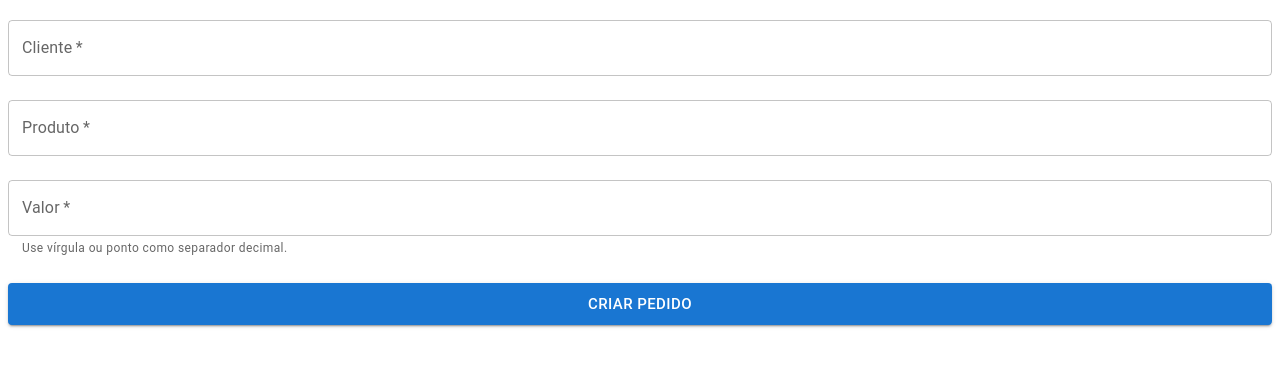
Test: OrderForm › maps API validation errors to their respective fields
Type "Ana Silva" into the field labelled "Cliente *" at [640, 48], box 8,20 -> 1272,76
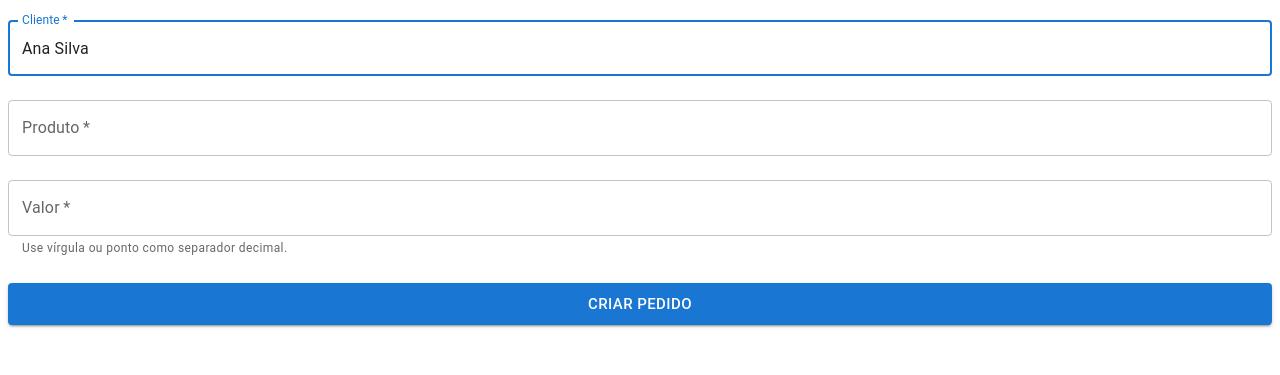
Type "Notebook" into the field labelled "Produto *" at [640, 128], box 8,100 -> 1272,156
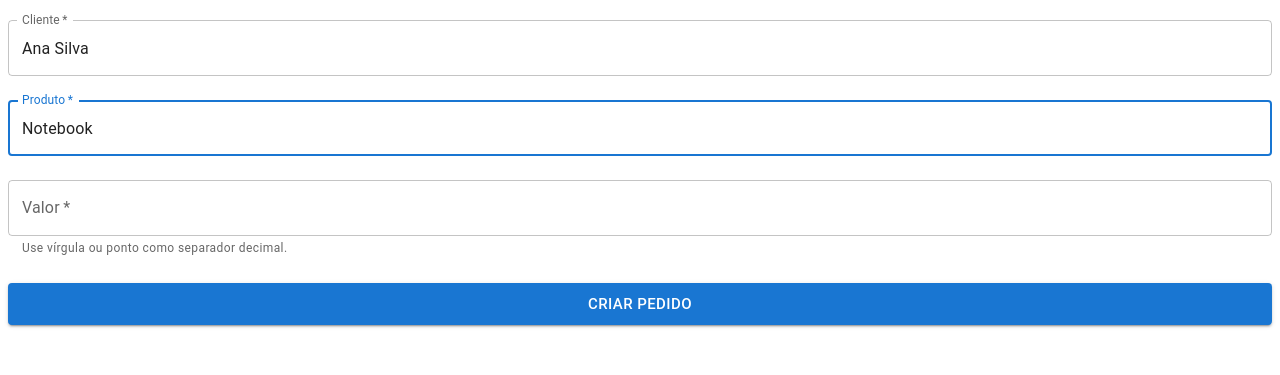
Type "4999,90" into the field labelled "Valor *" at [640, 208], box 8,180 -> 1272,236
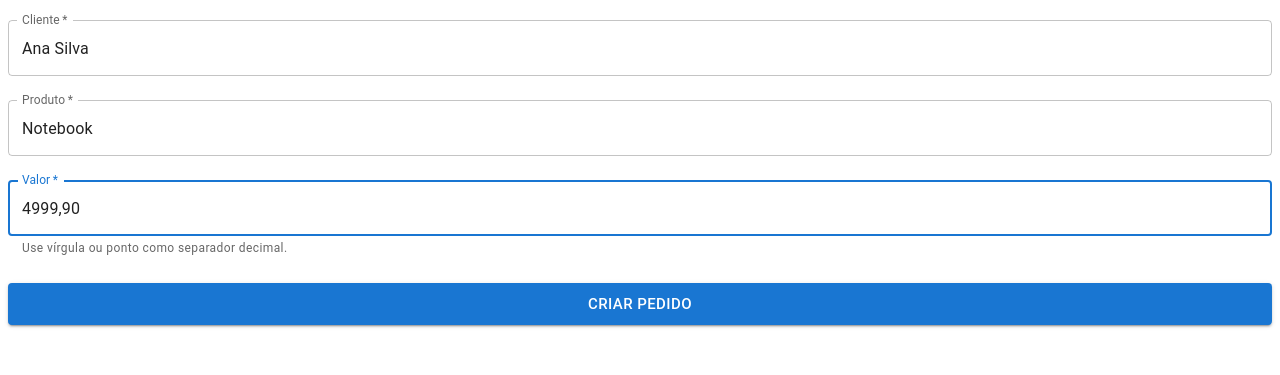
Click the button "Criar pedido" at [640, 304], box 8,283 -> 1272,325
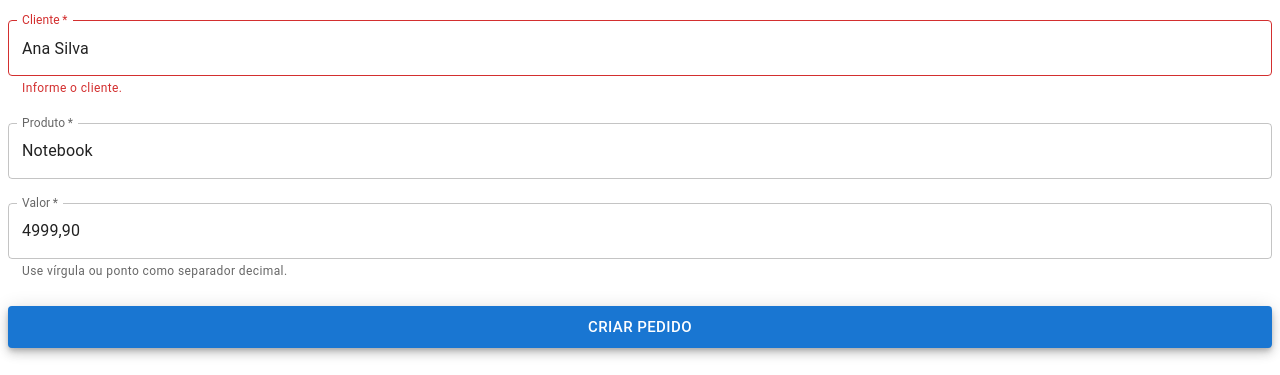
Now the text "Informe o cliente." is shown, box 22,81 -> 122,95
